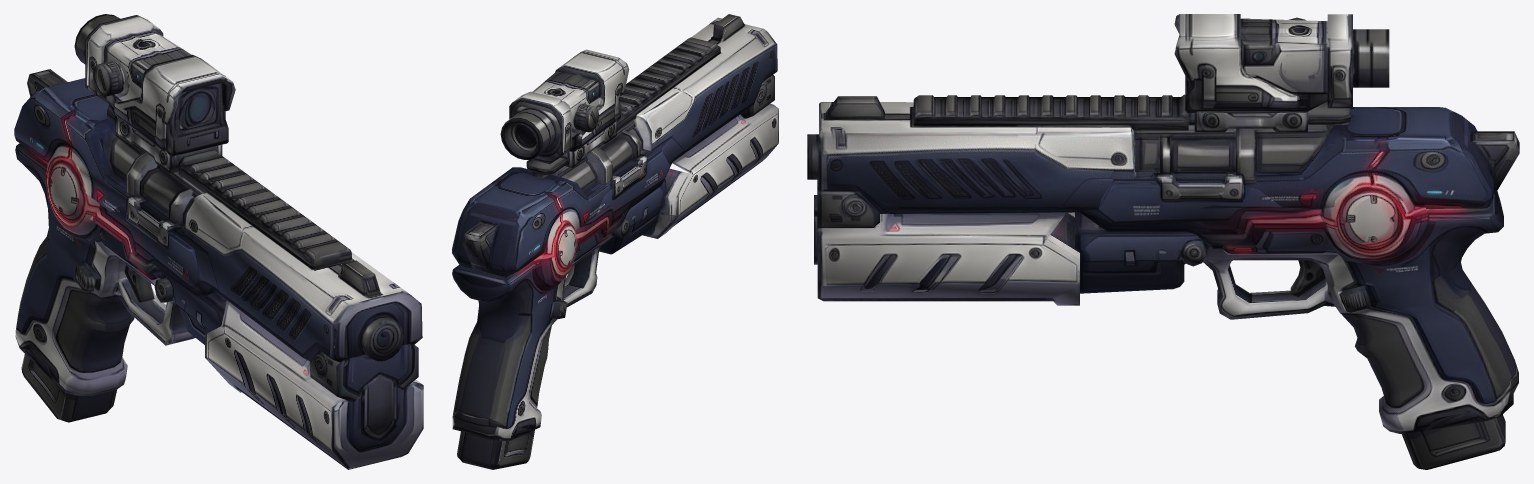
The picture shows the model from 3 angles, left to right: view 1: azimuth 30°, elevation 25°; view 2: azimuth 150°, elevation 25°; view 3: azimuth 270°, elevation 25°; orthographic projection. The views are drawn at different scales.
Parts seen in each view (by area): view 1: gun; view 2: gun; view 3: gun.
Boxes of the visible parts, x1,y1,x2,y2 form: gun: (14, 14, 423, 469); gun: (452, 14, 778, 469); gun: (807, 14, 1519, 469).
Bounding box in the file's own units: 0.5259 × 2.03 × 3.
1 material, 1 textured.
